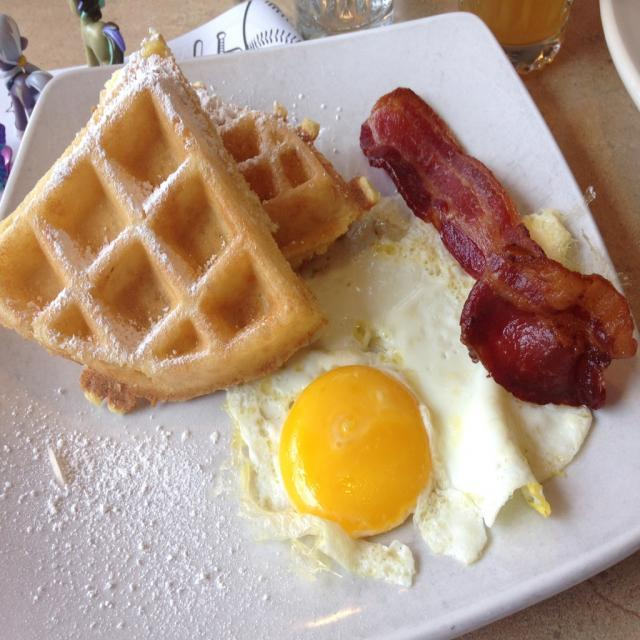Waffle: (0, 31, 329, 415), (197, 76, 385, 275)
